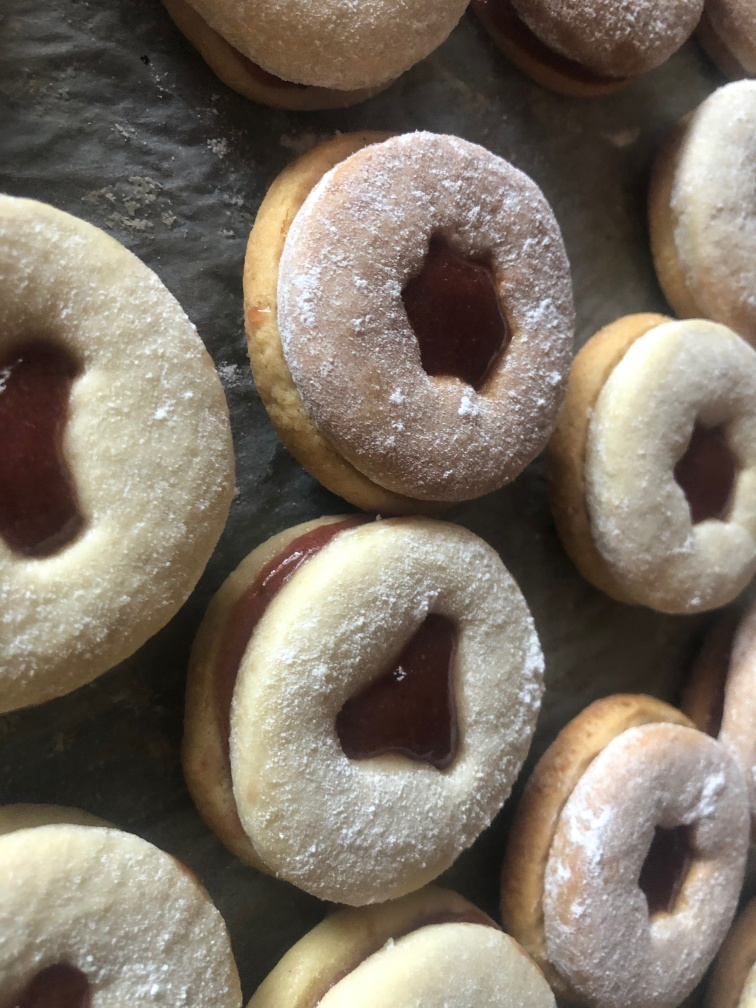christmas shortbread with jam: (186, 511, 543, 900), (244, 126, 575, 506), (1, 194, 240, 717), (516, 694, 750, 1000), (572, 309, 756, 614), (1, 799, 244, 1007), (257, 882, 562, 1008), (171, 1, 470, 104), (493, 1, 704, 93)
